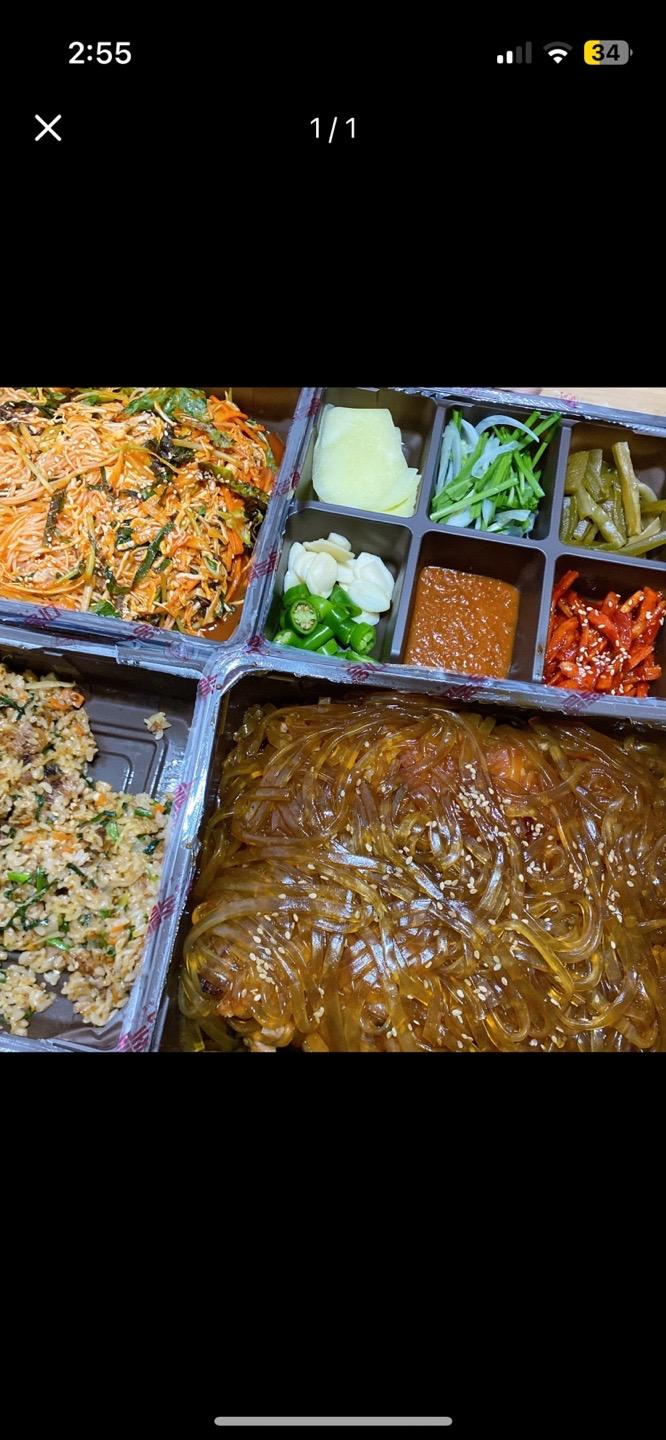Lunch Box: (121, 640, 665, 1053), (258, 380, 665, 707), (0, 627, 220, 1051), (0, 386, 318, 658)
